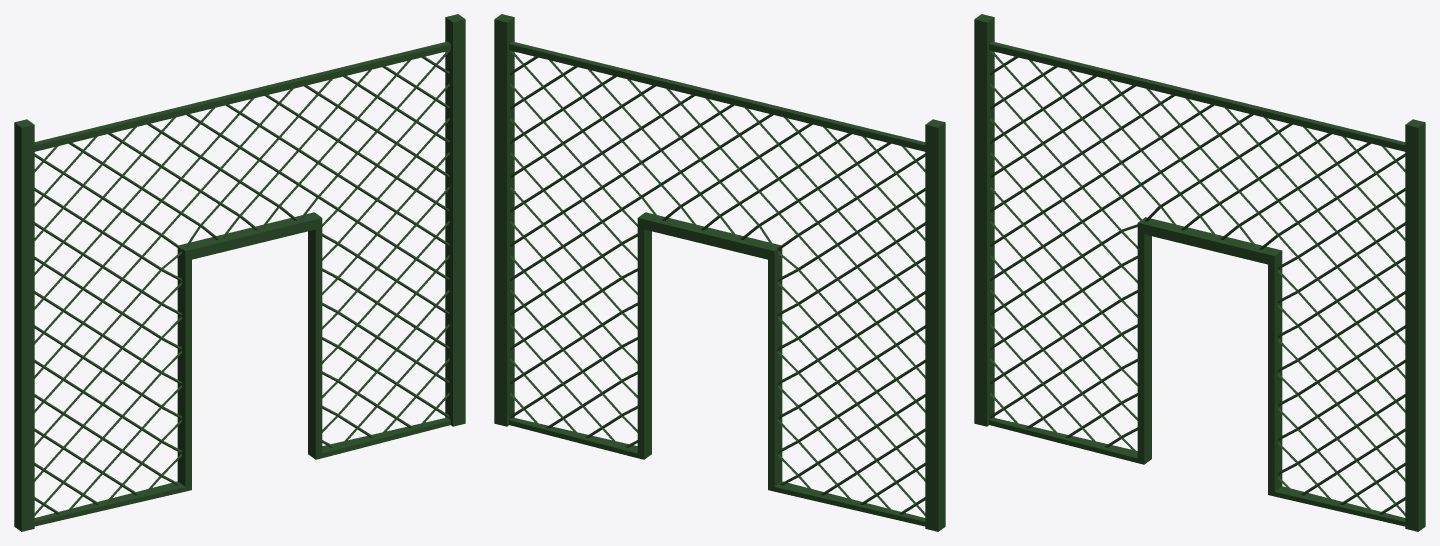
File: IgralishteDoor.glb
The picture shows the model from 3 angles, left to right: view 1: azimuth 30°, elevation 25°; view 2: azimuth 150°, elevation 25°; view 3: azimuth 330°, elevation 25°; orthographic projection.
Parts seen in each view (by area): view 1: Cube.002; view 2: Cube.002; view 3: Cube.002.
Boxes of the visible parts, <box> form: Cube.002: <box>14,14,465,531</box>; Cube.002: <box>494,14,945,531</box>; Cube.002: <box>974,14,1425,531</box>.
Size of the model in its own units: 13.8 by 12 by 0.413.
